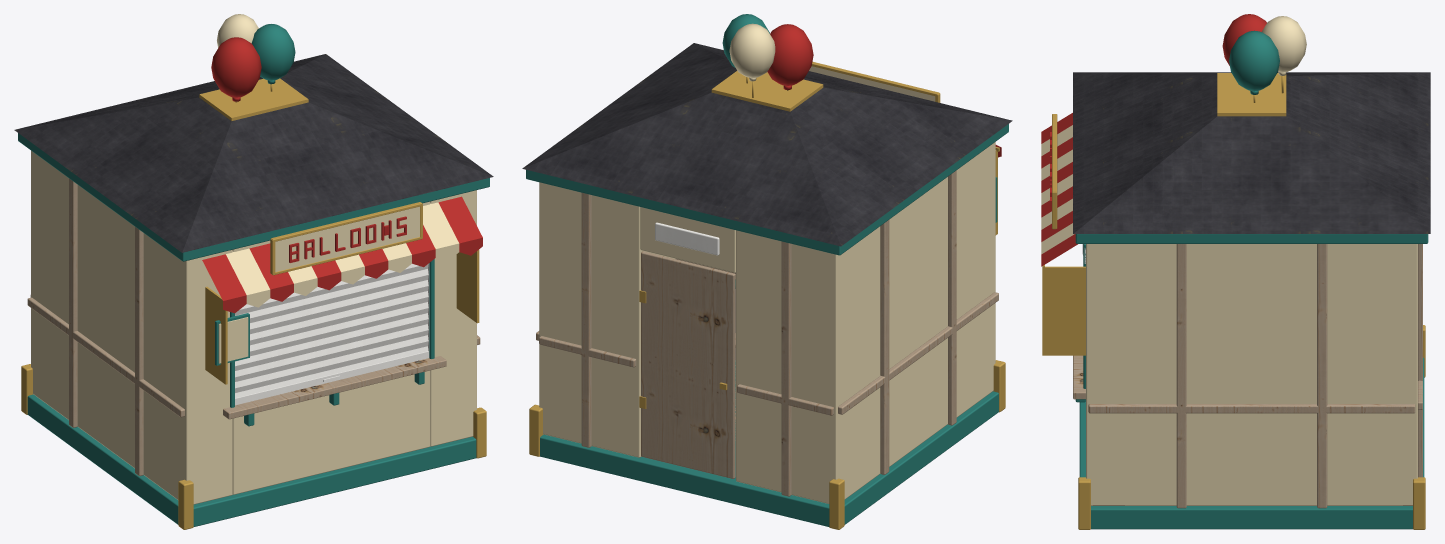
The model's file is balloon-stall.glb.
3 views of the same model, side by side, from view 1: azimuth 30°, elevation 25°; view 2: azimuth 150°, elevation 25°; view 3: azimuth 270°, elevation 25° (orthographic). The views are drawn at different scales.
Visible parts, largest first — view 1: Static_GroundRoot_cream, Roof_Main, Shutter_Closed_Curtain, Static_GroundRoot_paint_teal, Static_GroundRoot_paint_red, Static_GroundRoot_brass, Static_GroundRoot_timber; view 2: Static_GroundRoot_cream, Roof_Main, Static_GroundRoot_timber, Static_GroundRoot_paint_teal, Static_GroundRoot_brass, Static_GroundRoot_paint_red, Interior_Metal; view 3: Static_GroundRoot_cream, Roof_Main, Static_GroundRoot_paint_teal, Static_GroundRoot_timber, Static_GroundRoot_brass, Static_GroundRoot_paint_red.
Part boxes in pixels (x1,y1,x2,y2): Static_GroundRoot_cream: (31,14,476,504); Roof_Main: (14,54,493,252); Shutter_Closed_Curtain: (235,263,429,405); Static_GroundRoot_paint_teal: (18,24,489,526); Static_GroundRoot_paint_red: (202,37,482,313); Static_GroundRoot_brass: (21,78,486,529); Static_GroundRoot_timber: (27,178,480,476); Static_GroundRoot_cream: (539,23,995,503); Roof_Main: (522,43,1012,246); Static_GroundRoot_timber: (536,170,998,496); Static_GroundRoot_paint_teal: (526,14,1008,526); Static_GroundRoot_brass: (529,61,1005,529); Static_GroundRoot_paint_red: (767,24,1001,157); Interior_Metal: (655,222,735,359); Static_GroundRoot_cream: (1041,16,1417,505); Roof_Main: (1073,72,1430,233); Static_GroundRoot_paint_teal: (1075,30,1428,529); Static_GroundRoot_timber: (1073,244,1422,508); Static_GroundRoot_brass: (1042,73,1425,529); Static_GroundRoot_paint_red: (1041,14,1266,266).
Bounding box in the file's own units: 3 × 3.75 × 3.05.
Materials: 8 (3 with a texture image).
